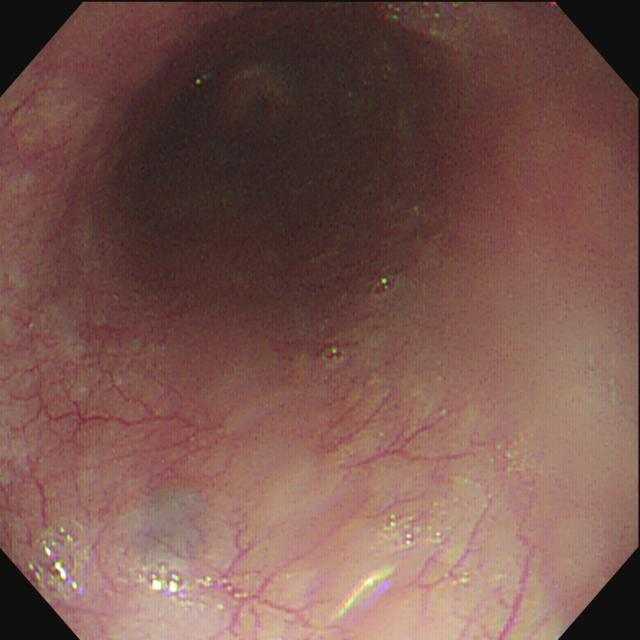E: (109, 27, 425, 258)
T: (28, 524, 88, 603), (139, 562, 221, 610), (374, 508, 449, 552), (371, 274, 401, 299)
U: (334, 569, 394, 618)
